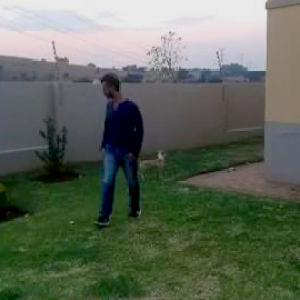follow: (100, 71, 148, 218)
